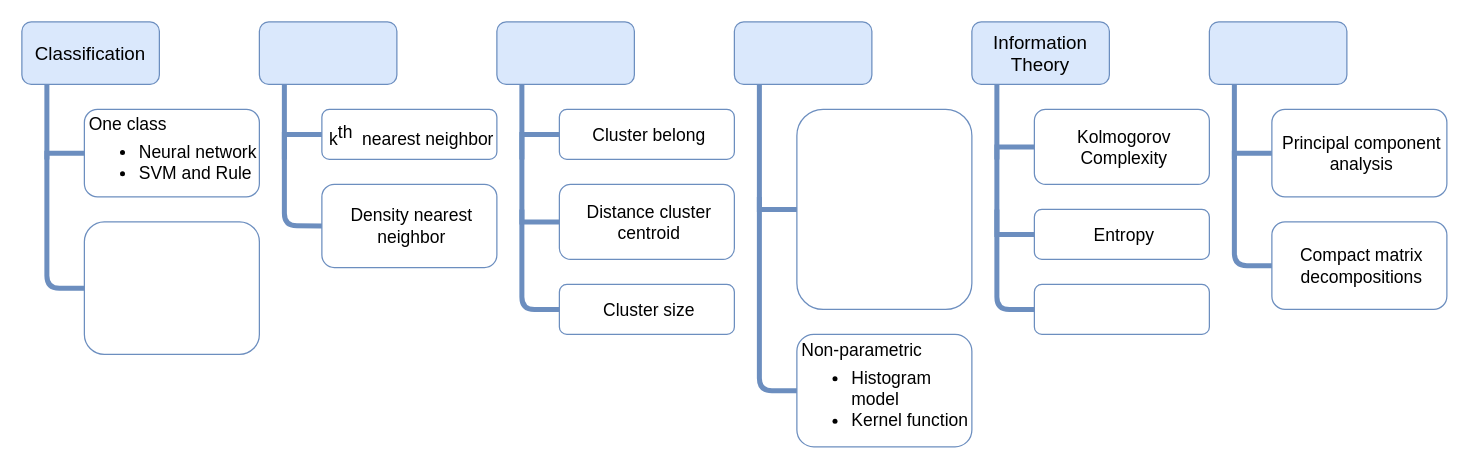
Image size: 1470x470. Some labels were removed from this diagram. The shapes that lost their labels are listed below. From the top down, each one's centre as x and y in pixels, then its label:
the point at 327,52: Nearest Neighbor
the point at 565,52: Clustering
the point at 802,52: Statistical
the point at 1277,52: Spectral
the point at 884,208: Parametric Gaussian model Regression model Mixture of parametric distributions
the point at 171,287: Multi-class Baessyan network Neural network Decision trees
the point at 1121,308: Relative entropy
